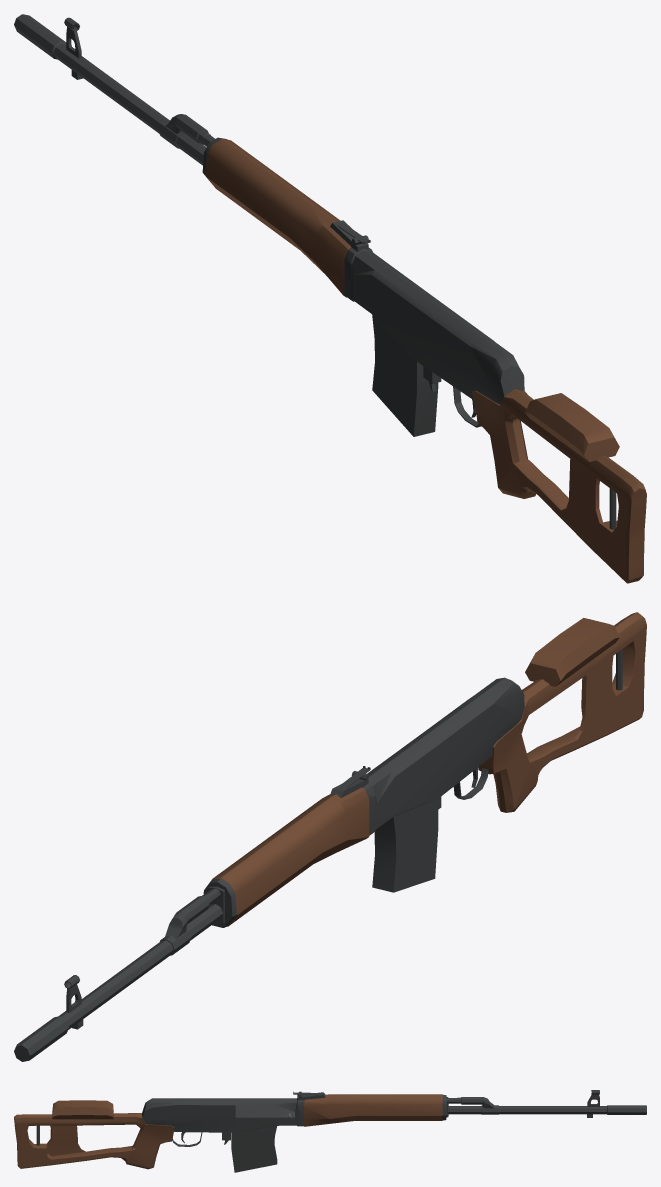
Rendered from dmr_d14.glb.
3 views of the same model, one above another, from view 1: azimuth 30°, elevation 25°; view 2: azimuth 150°, elevation 25°; view 3: azimuth 270°, elevation 25° (orthographic). The views are drawn at different scales.
Visible parts, largest first — view 1: Cube; view 2: Cube; view 3: Cube.
Part boxes in pixels (x1,y1,x2,y2): Cube: [14, 14, 646, 583]; Cube: [14, 612, 646, 1061]; Cube: [14, 1090, 646, 1172].
Bounding box in the file's own units: 0.0405 × 0.1396 × 1.
